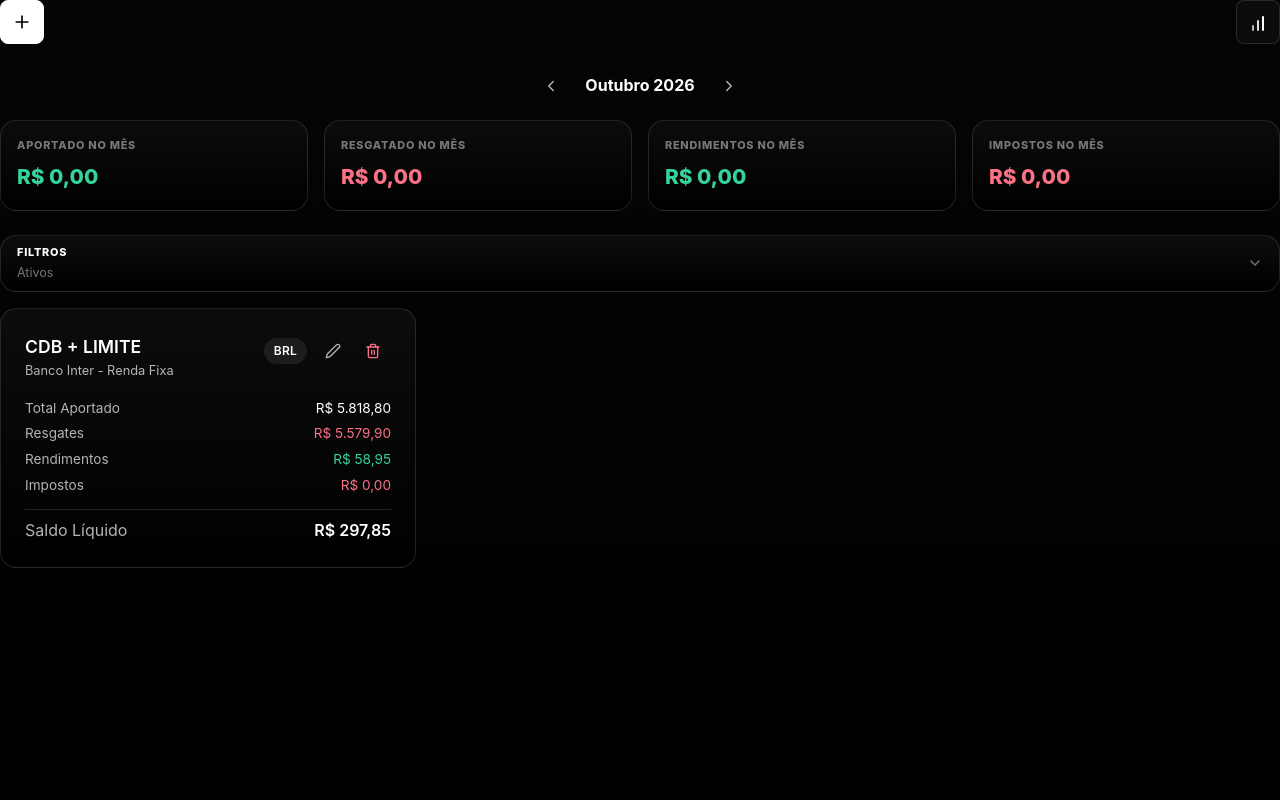
Test: Investments Page › editing and deleting an investment › deletes from the card after an in-app confirmation that warns about the entries
Click the button named "Excluir CDB + LIMITE": point(373, 351) [355,333,391,369]
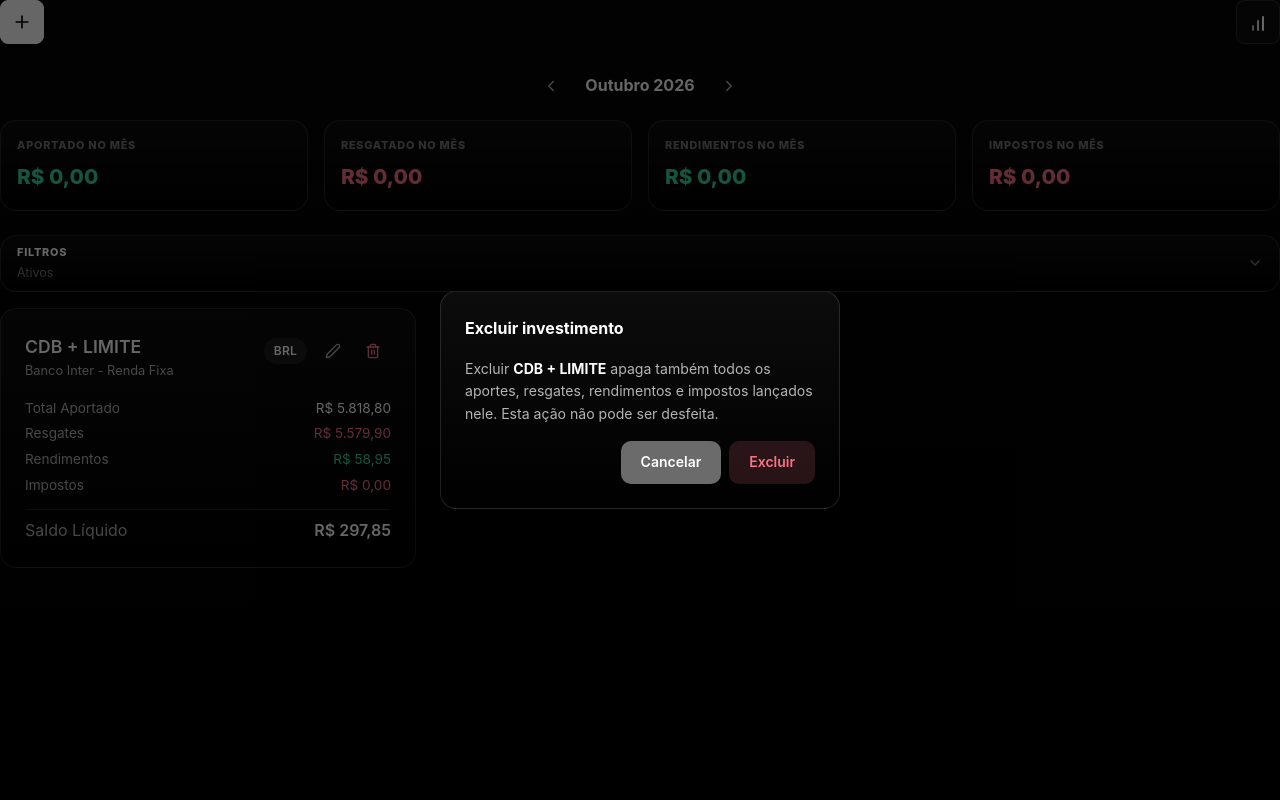
Now the dialog "Excluir investimento" shows "apaga também todos os aportes, resgates, rendimentos e impostos", box [465,360,813,422]
Click the button "Excluir": point(772, 463) [729,441,815,484]
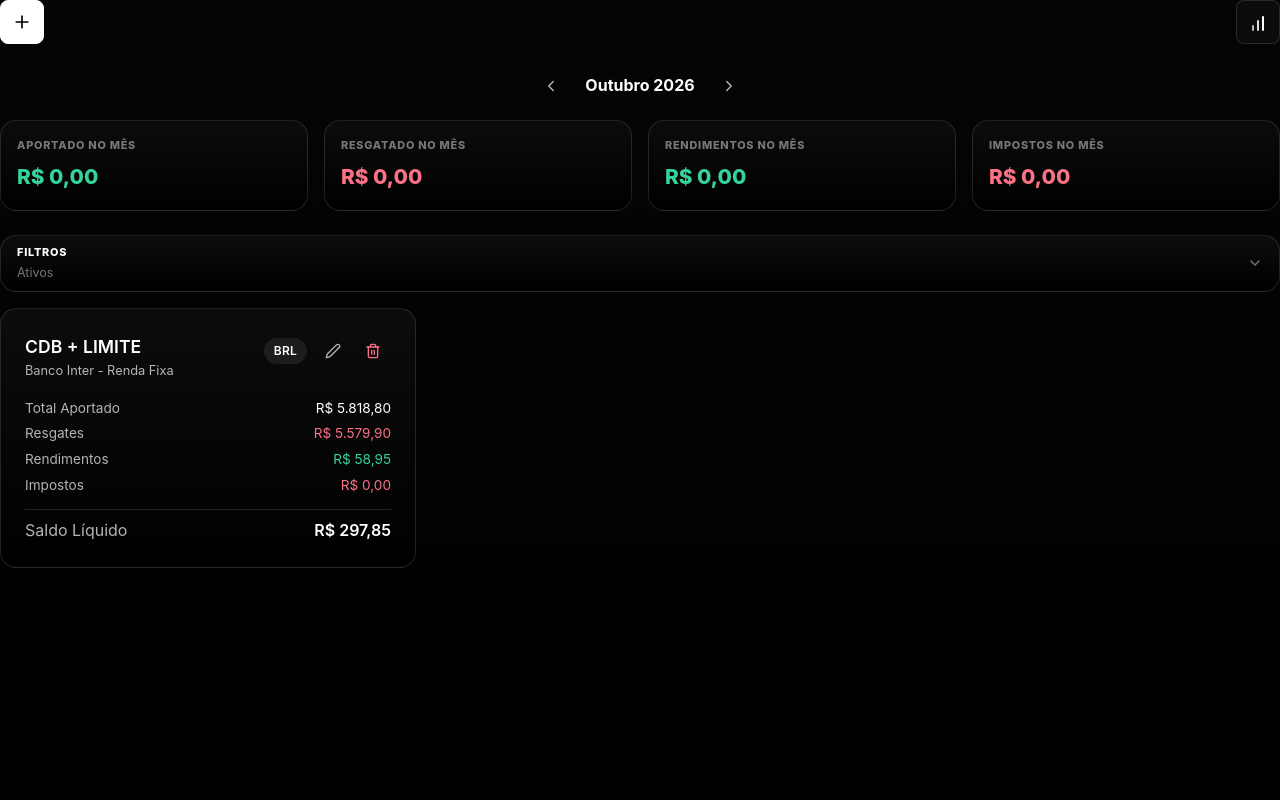
Now the heading "Excluir investimento" is gone
